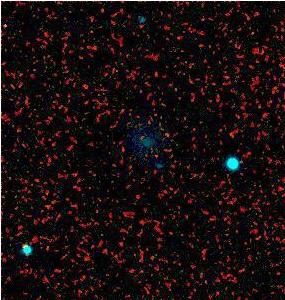star: (158, 117, 188, 147)
